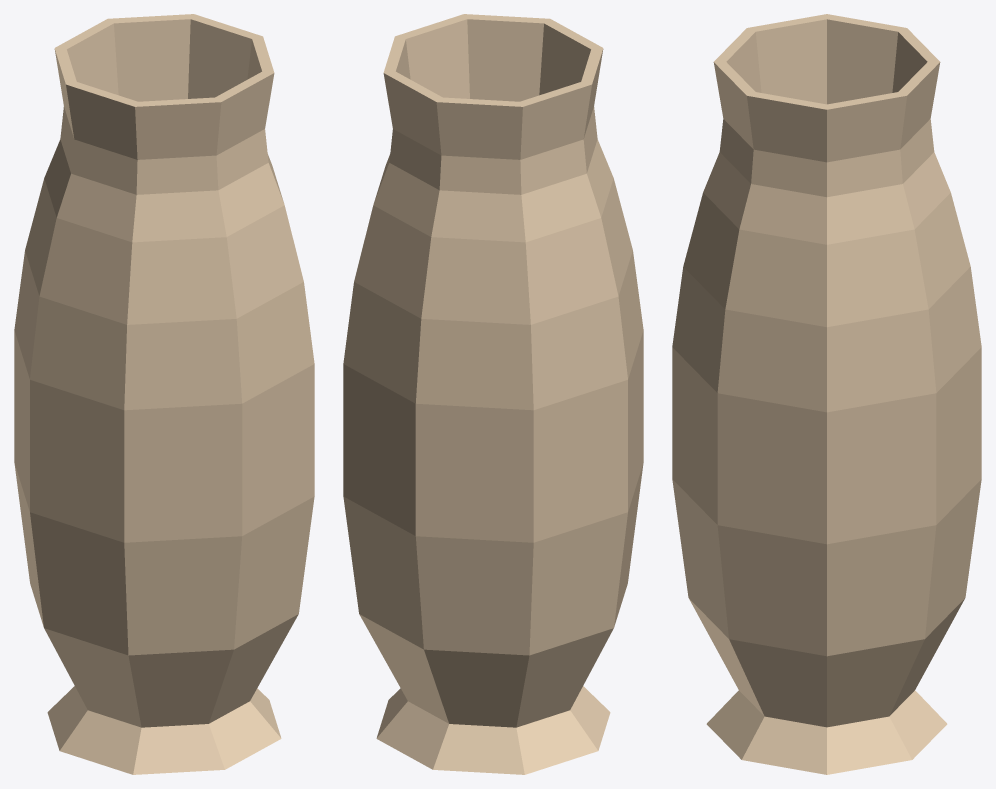
File: Prop_Vase_1.glb
3 views of the same model, side by side, from view 1: azimuth 30°, elevation 25°; view 2: azimuth 150°, elevation 25°; view 3: azimuth 270°, elevation 25° (orthographic).
Visible parts, largest first — view 1: Sandstone_5; view 2: Sandstone_5; view 3: Sandstone_5.
Boxes of the visible parts, box(x1,y1,x2,y2) form: Sandstone_5: box(14, 14, 314, 774); Sandstone_5: box(343, 14, 643, 774); Sandstone_5: box(672, 14, 981, 774).
Bounding box in the file's own units: 0.1985 × 0.4686 × 0.1985.
